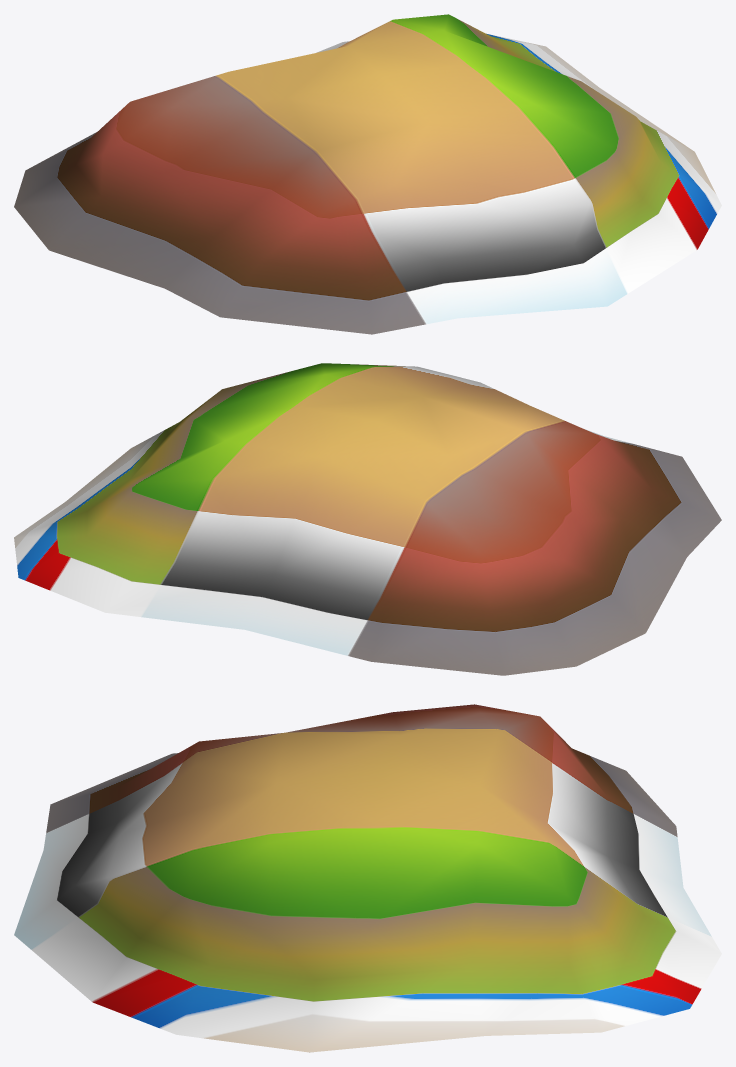
The model's file is TerrainPatchGreen.fbx.
3 renders of one model, top to bottom at view 1: azimuth 30°, elevation 25°; view 2: azimuth 150°, elevation 25°; view 3: azimuth 270°, elevation 25°, orthographic. The views are drawn at different scales.
Visible parts, largest first — view 1: TerrainPatchGreen; view 2: TerrainPatchGreen; view 3: TerrainPatchGreen.
Boxes of the visible parts, <box> form: TerrainPatchGreen: <box>14,14,721,334</box>; TerrainPatchGreen: <box>14,363,721,675</box>; TerrainPatchGreen: <box>14,704,721,1052</box>.
Bounding box in the file's own units: 7.06 × 1.41 × 6.8.
